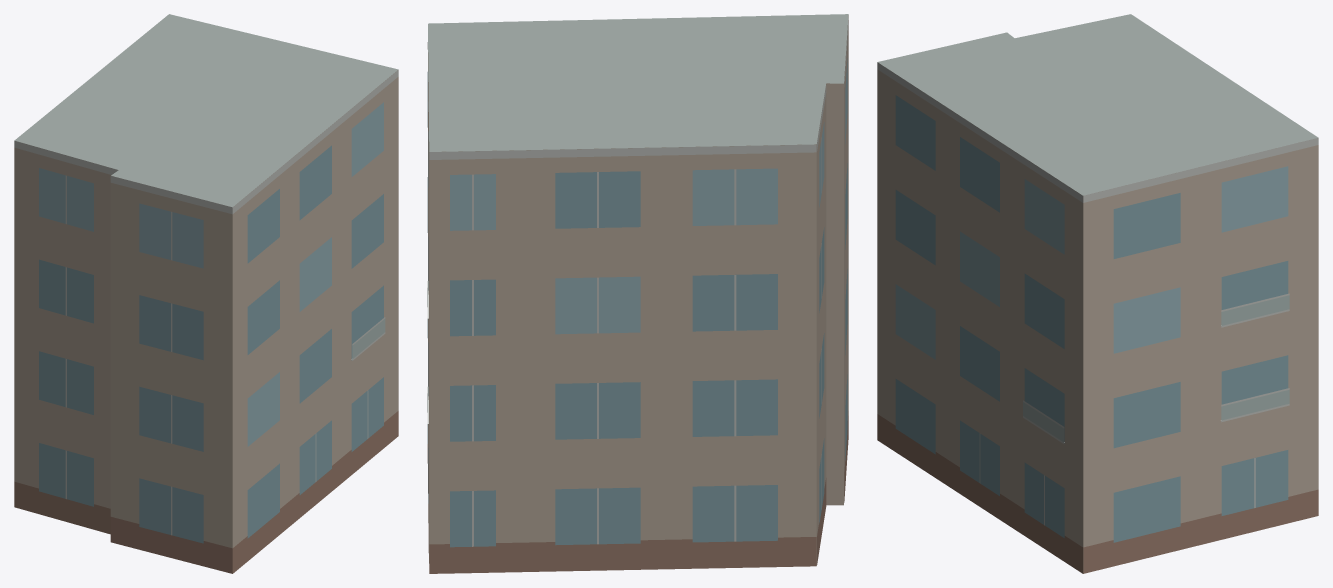
Rendered from survey-upis-32691798.glb.
The picture shows the model from 3 angles, left to right: view 1: azimuth 30°, elevation 25°; view 2: azimuth 150°, elevation 25°; view 3: azimuth 270°, elevation 25°; orthographic projection. The views are drawn at different scales.
Visible parts, largest first — view 1: survey-upis-32691798.tmp; view 2: survey-upis-32691798.tmp; view 3: survey-upis-32691798.tmp.
Part boxes in pixels (x1,y1,x2,y2): survey-upis-32691798.tmp: [14, 14, 398, 573]; survey-upis-32691798.tmp: [427, 14, 848, 573]; survey-upis-32691798.tmp: [877, 14, 1318, 573].
Size of the model in its own units: 13.21 by 12.8 by 13.55.
